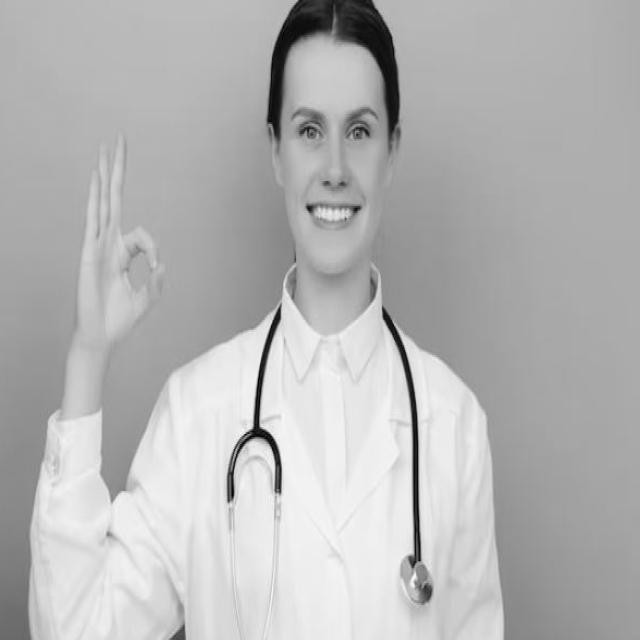perfect: (72, 124, 171, 358)
